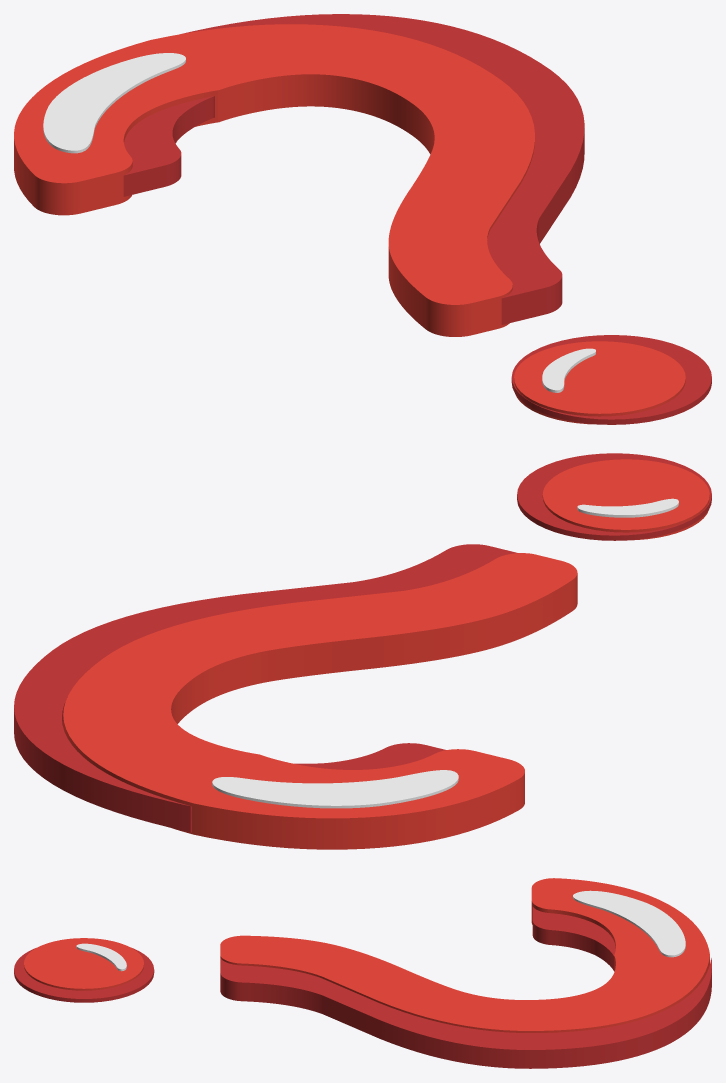
File: emoji_u2753.glb
3 views of the same model, one above another, from view 1: azimuth 30°, elevation 25°; view 2: azimuth 150°, elevation 25°; view 3: azimuth 270°, elevation 25° (orthographic). The views are drawn at different scales.
Visible parts, largest first — view 1: emoji_u2753; view 2: emoji_u2753; view 3: emoji_u2753.
Part boxes in pixels (x1,y1,x2,y2): emoji_u2753: [14, 14, 711, 424]; emoji_u2753: [14, 453, 711, 849]; emoji_u2753: [14, 878, 711, 1068].
Size of the model in its own units: 0.0194 by 0.0014 by 0.0337.
